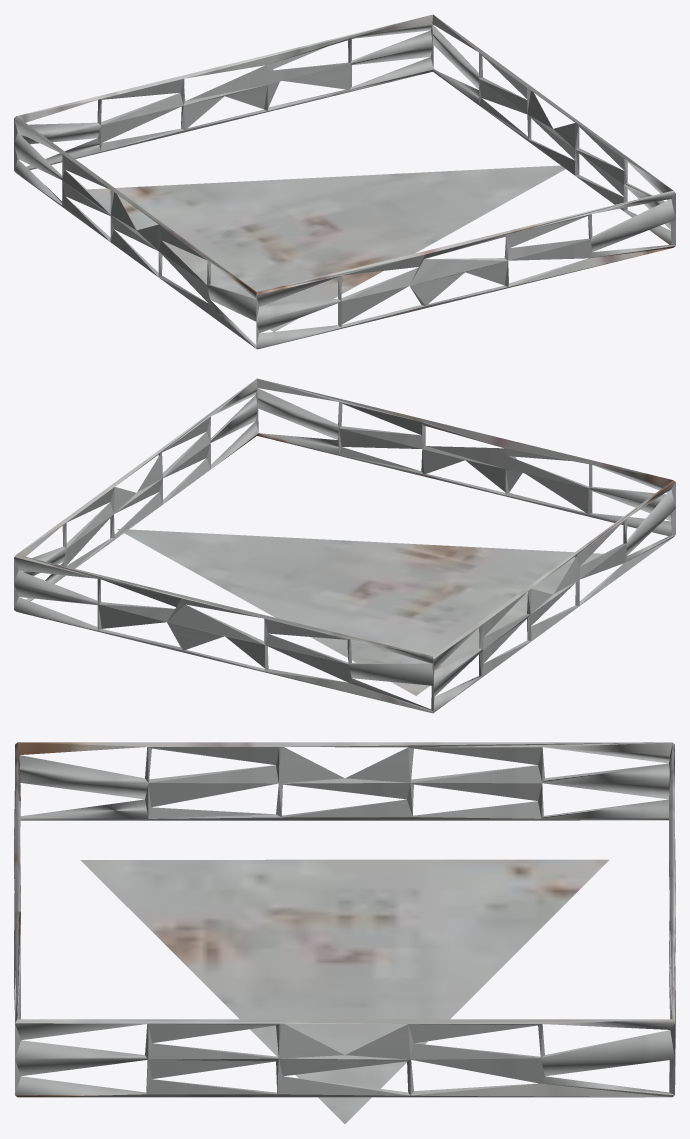
File: mil_watchtower_lod1.glb
3 renders of one model, top to bottom at view 1: azimuth 30°, elevation 25°; view 2: azimuth 150°, elevation 25°; view 3: azimuth 270°, elevation 25°, orthographic. The views are drawn at different scales.
Visible parts, largest first — view 1: mil_watchtower; view 2: mil_watchtower; view 3: mil_watchtower.
Boxes of the visible parts, left/top/right/bottom form: mil_watchtower: left=14, top=14, right=675, bottom=349; mil_watchtower: left=14, top=378, right=675, bottom=713; mil_watchtower: left=14, top=742, right=675, bottom=1123.
Bounding box in the file's own units: 3.48 × 0.5095 × 3.34.
Materials: 1 (1 with a texture image).
